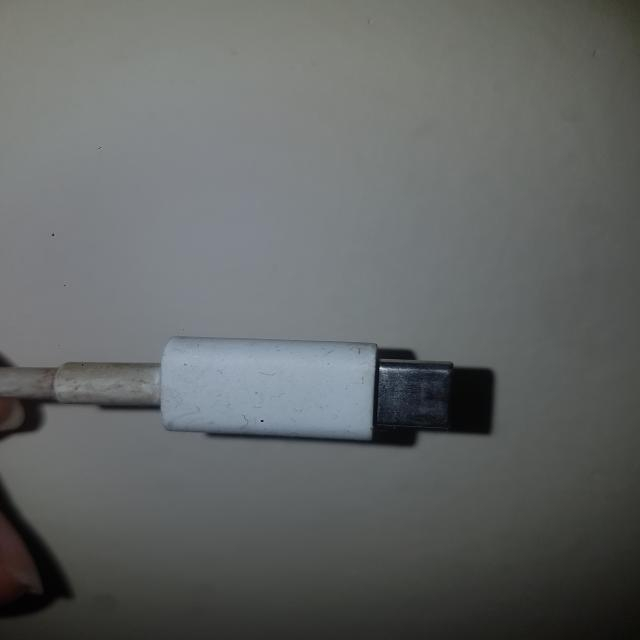electronic: (17, 265, 554, 519)
